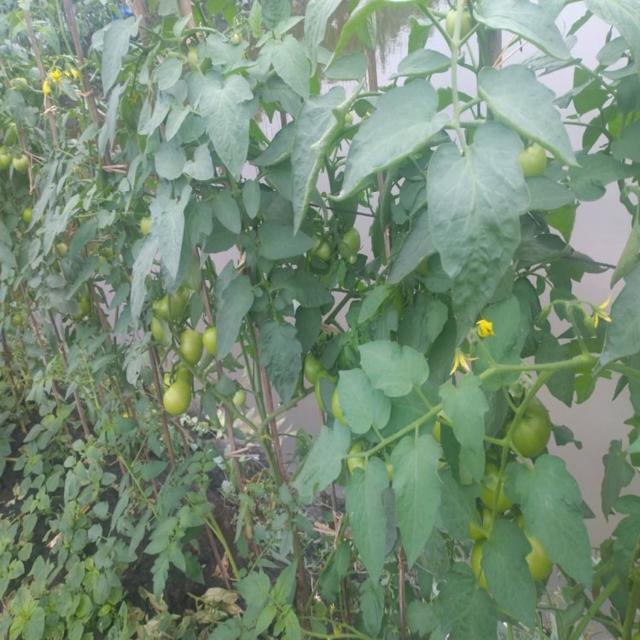tomato: (509, 390, 560, 451), (516, 137, 552, 179), (483, 457, 510, 506), (179, 324, 207, 369), (165, 374, 193, 412), (159, 293, 186, 326), (203, 325, 229, 355), (314, 226, 336, 258), (345, 228, 366, 255), (1, 145, 16, 175), (14, 154, 34, 173)
